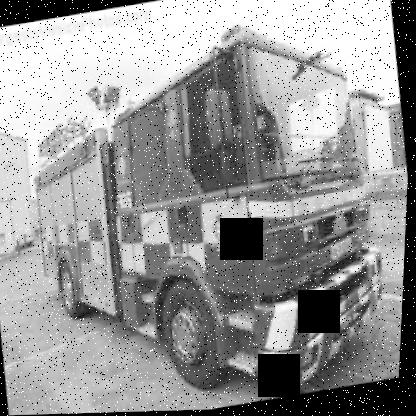emergency: (4, 2, 416, 415)
